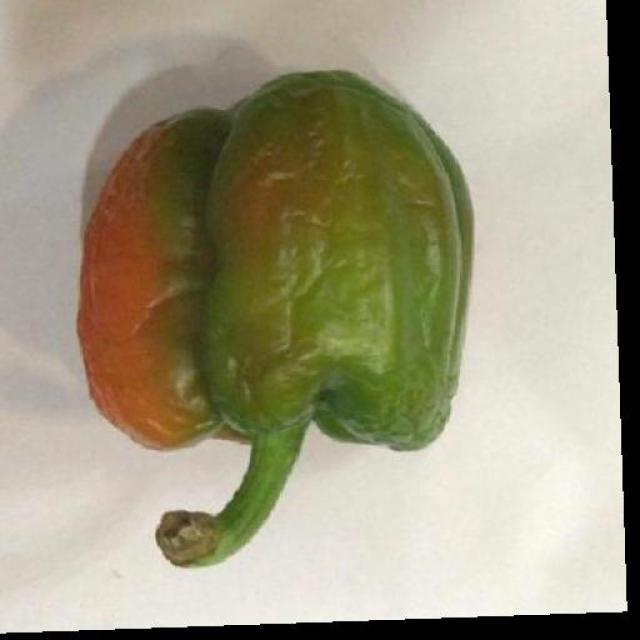Stale_Capsicum: (74, 79, 481, 452)
